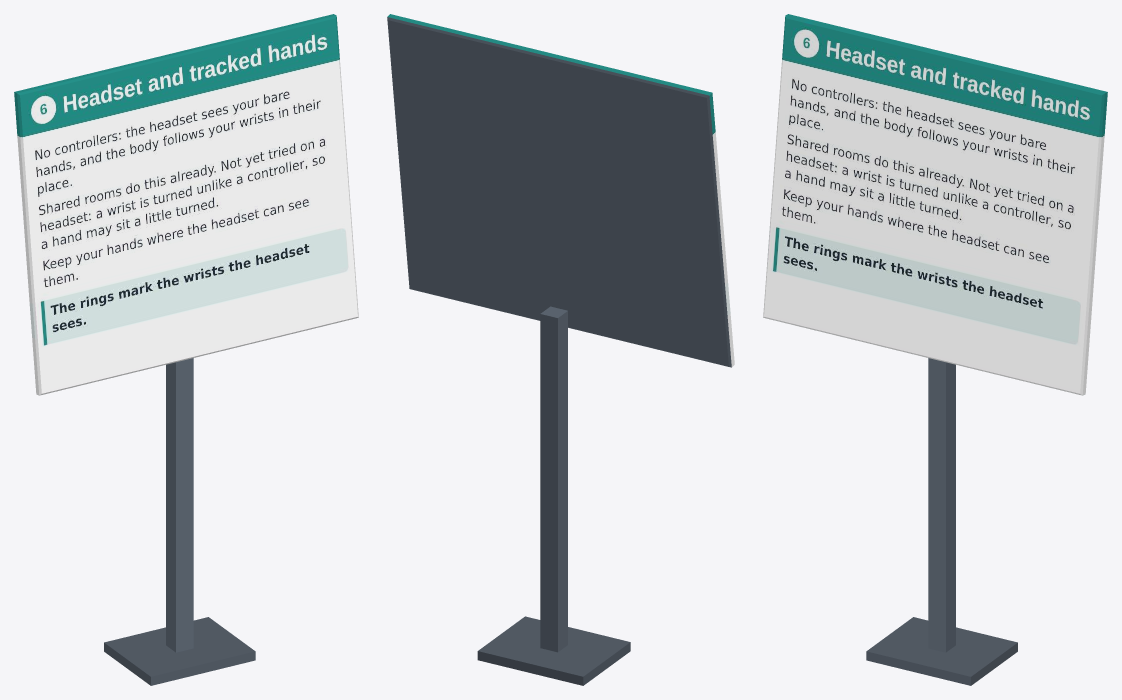
File: 06-headset-and-tracked-hands.glb
The picture shows the model from 3 angles, left to right: view 1: azimuth 30°, elevation 25°; view 2: azimuth 150°, elevation 25°; view 3: azimuth 330°, elevation 25°; orthographic projection.
Visible parts, largest first — view 1: board; view 2: board; view 3: board.
Boxes of the visible parts, x1,y1,x2,y2 form: board: [14, 14, 358, 685]; board: [387, 14, 734, 685]; board: [763, 14, 1107, 685].
Bounding box in the file's own units: 1.1 × 1.97 × 0.28.
1 material, 1 textured.
